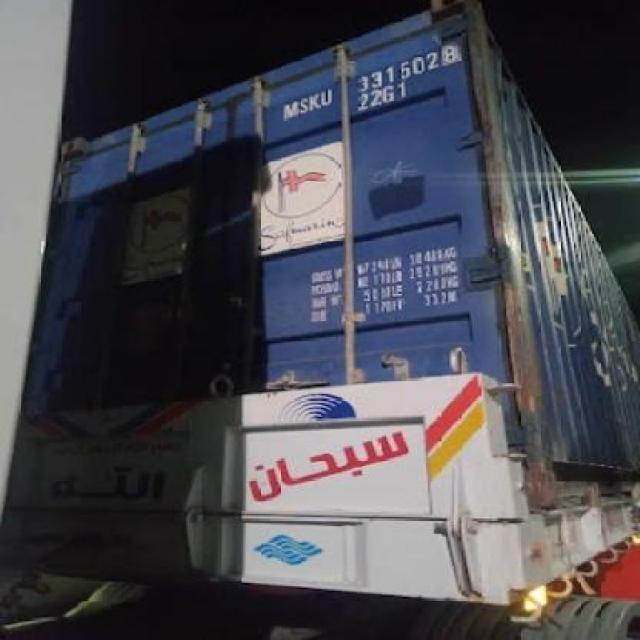ISO: (358, 76, 412, 116)
container_number: (286, 38, 459, 121)
